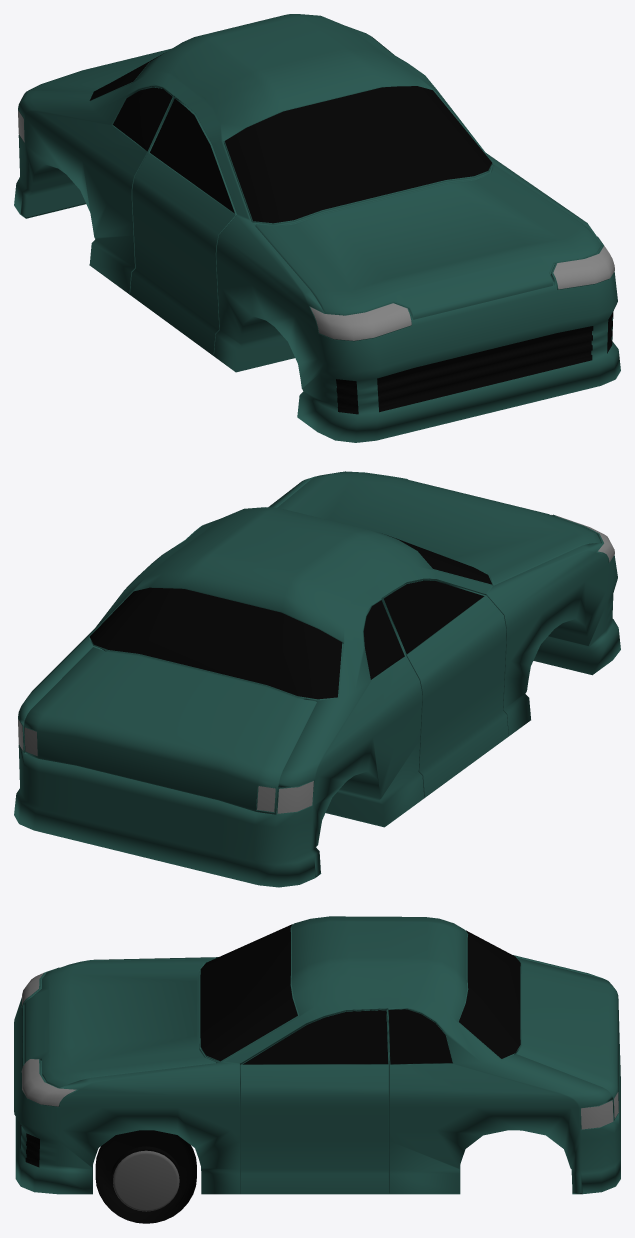
The model's file is 1995 civic si Coupe.fbx.
The picture shows the model from 3 angles, top to bottom: view 1: azimuth 30°, elevation 25°; view 2: azimuth 150°, elevation 25°; view 3: azimuth 270°, elevation 25°; orthographic projection. The views are drawn at different scales.
Parts seen in each view (by area): view 1: Cube; view 2: Cube; view 3: Cube, Cylinder.
Part boxes in pixels (box(x1,y1,x2,y2)): Cube: box(14, 14, 620, 442); Cube: box(14, 471, 620, 887); Cube: box(14, 916, 620, 1194); Cylinder: box(95, 1130, 196, 1223).
Bounding box in the file's own units: 258 × 208 × 512.
